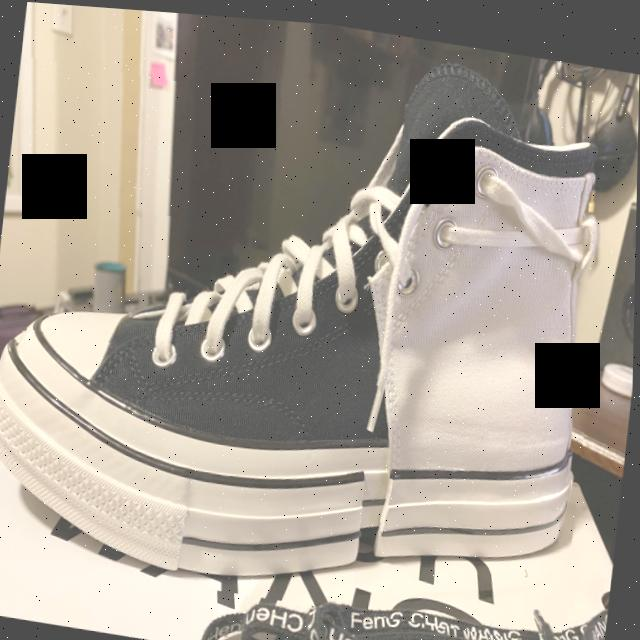shoe: (0, 0, 622, 639)
